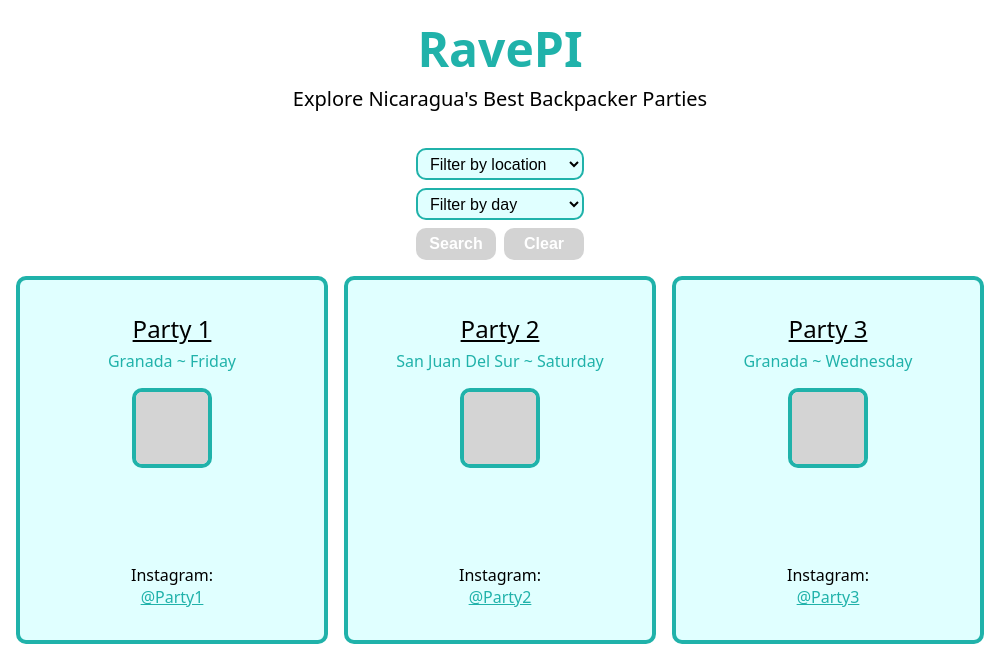
RavePI › when initial page loads › and then the user selects a filter/s › and then the user clicks "Search" › should render party cards that match the filter/s
The width and height of the screenshot is (1001, 661).
expect the heading "RavePI" is shown: met, box [417,16,583,81]
Select "Granada" in the 1st dropdown: [500, 164] box [416,148,584,180]
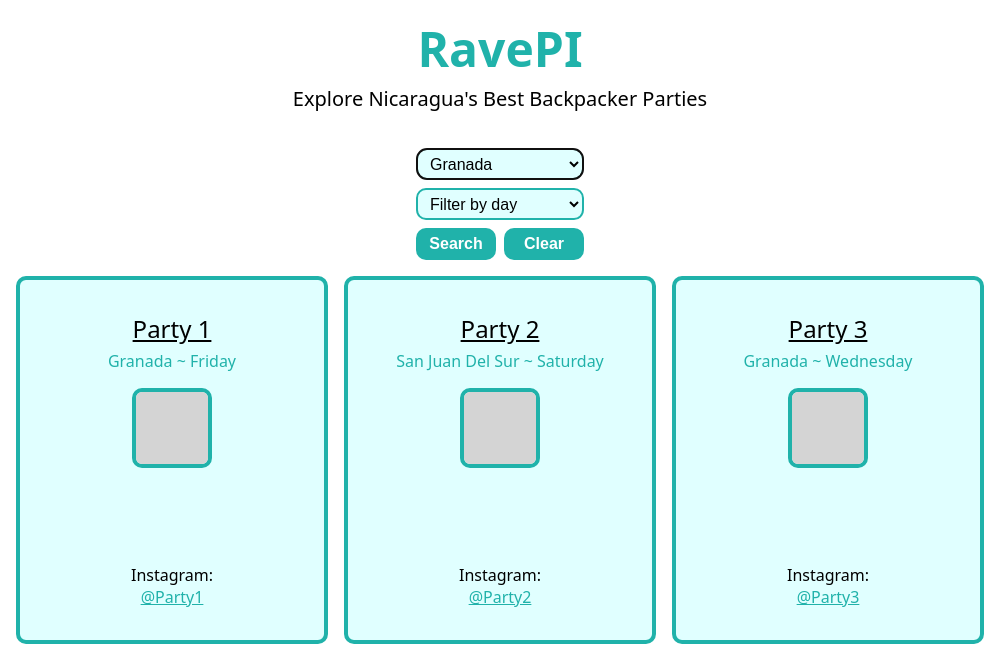
Select "Friday" in the 2nd dropdown: [500, 204] box [416,188,584,220]
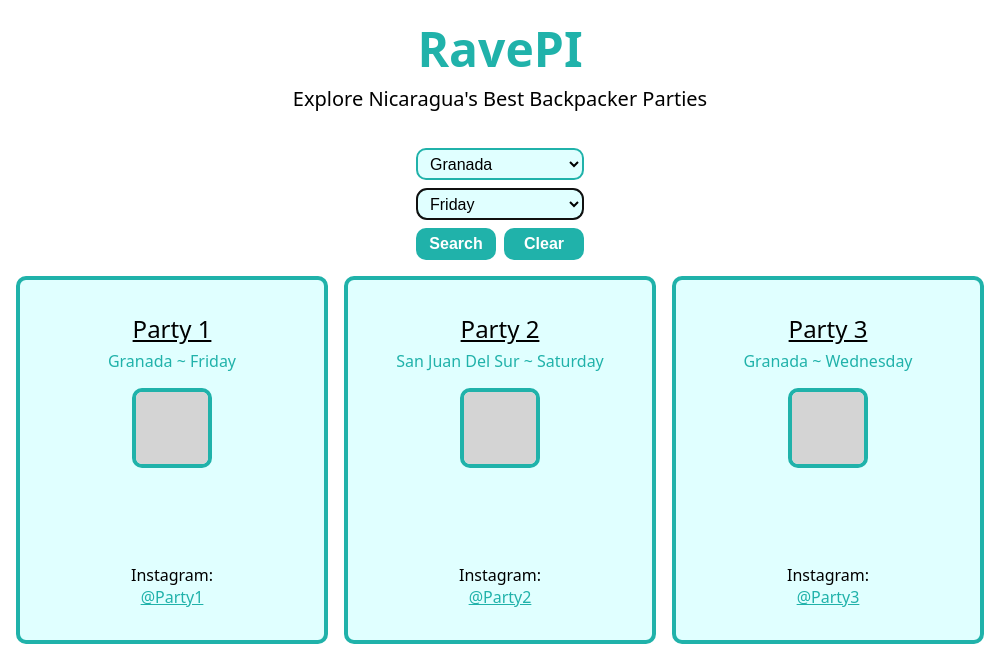
Click the button "Search": [456, 244] box [416,228,496,260]
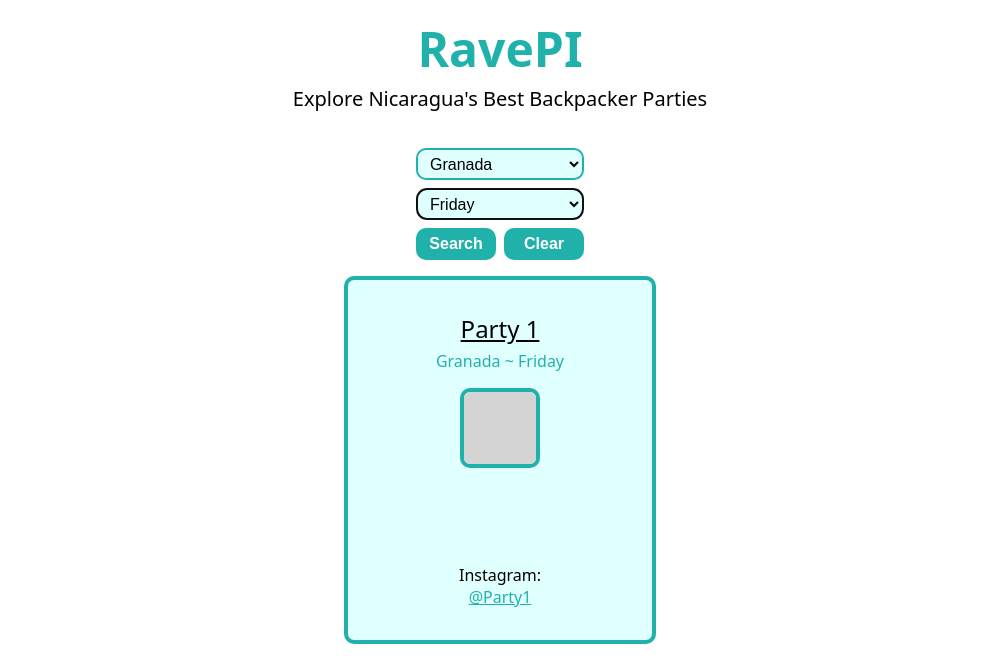
expect the elements "Party" read "Party 1", in this order: met, box [461,312,539,345]
